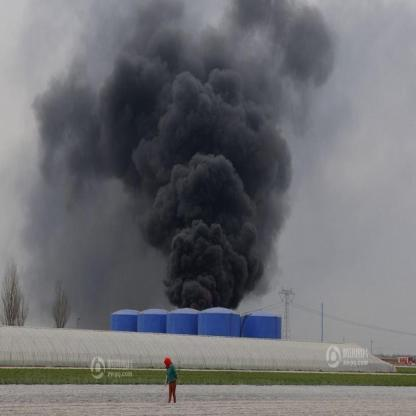smoke: (103, 3, 338, 180), (126, 182, 286, 308), (32, 67, 103, 172)
